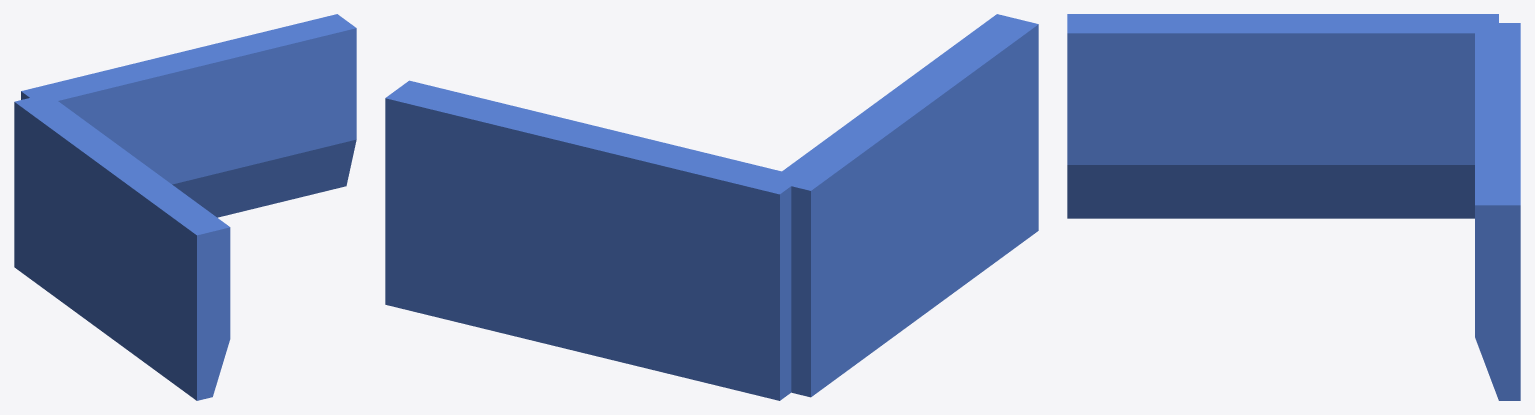
Rendered from TopCables_Corner_Square_Inner_Collision.fbx.
3 views of the same model, side by side, from view 1: azimuth 30°, elevation 25°; view 2: azimuth 150°, elevation 25°; view 3: azimuth 270°, elevation 25° (orthographic). The views are drawn at different scales.
Visible parts, largest first — view 1: TopCables_Corner_Square_Inner_Collision; view 2: TopCables_Corner_Square_Inner_Collision; view 3: TopCables_Corner_Square_Inner_Collision.
Part boxes in pixels (box(x1,y1,x2,y2)): TopCables_Corner_Square_Inner_Collision: box(14, 14, 356, 400); TopCables_Corner_Square_Inner_Collision: box(385, 14, 1038, 400); TopCables_Corner_Square_Inner_Collision: box(1067, 14, 1520, 400).
Bounding box in the file's own units: 420 × 200 × 420.
